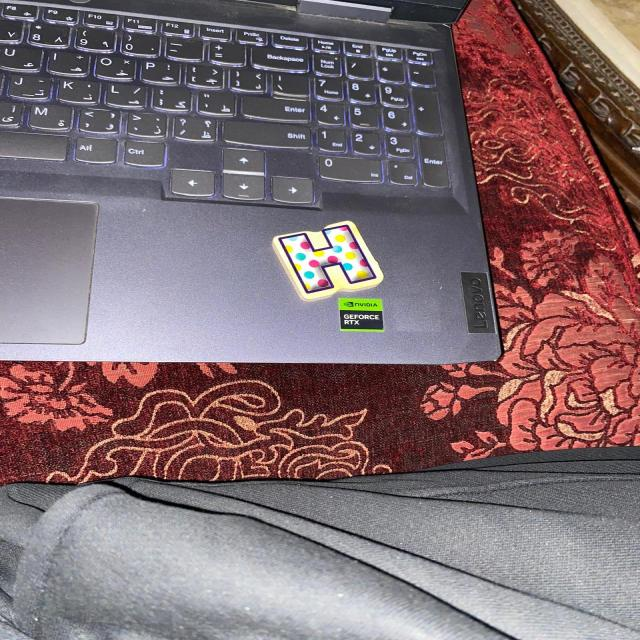H: (272, 221, 383, 301)
